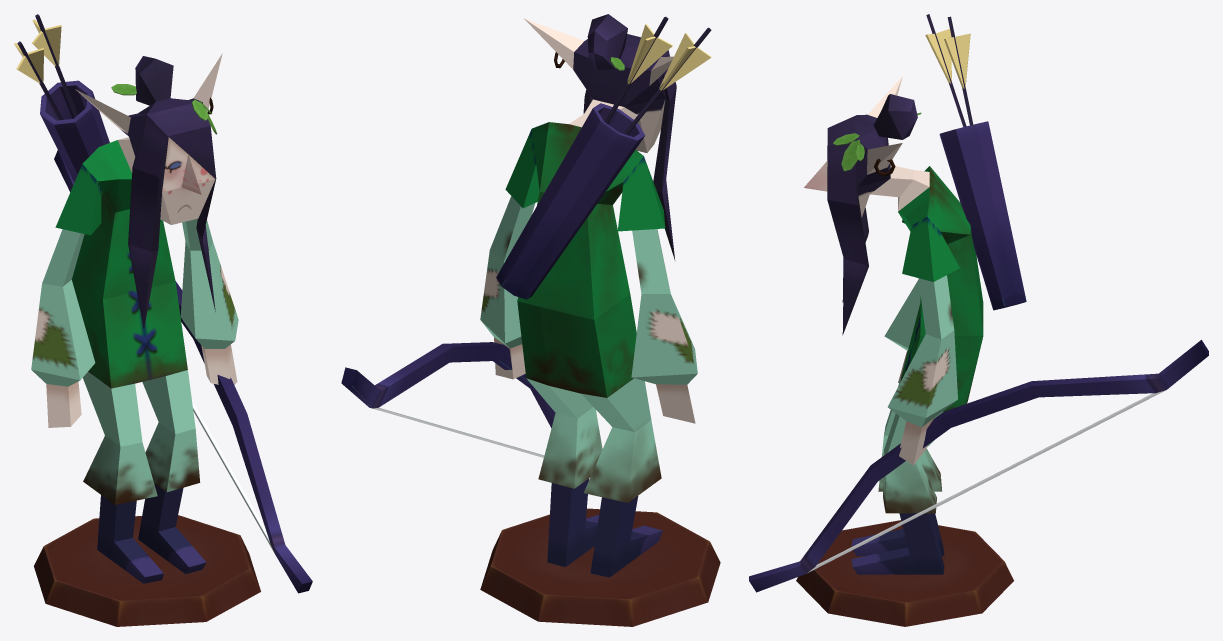
File: Asset_Pawn_Emo.fbx
3 views of the same model, side by side, from view 1: azimuth 30°, elevation 25°; view 2: azimuth 150°, elevation 25°; view 3: azimuth 270°, elevation 25° (orthographic). The views are drawn at different scales.
Visible parts, largest first — view 1: Emo_body, Emo_stand, Emo_Arc, Emo_Garkoi, Emo_fleche, Emo_fleche1, Emo_feuille; view 2: Emo_body, Emo_stand, Emo_Garkoi, Emo_Arc, Emo_fleche1, Emo_fleche; view 3: Emo_body, Emo_stand, Emo_Arc, Emo_Garkoi, Emo_fleche, Emo_fleche1, Emo_feuille.
Boxes of the visible parts, x1=… form: Emo_body: x1=31, y1=53, x2=238, y2=583; Emo_stand: x1=34, y1=515, x2=260, y2=626; Emo_Arc: x1=54, y1=150, x2=312, y2=593; Emo_Garkoi: x1=40, y1=80, x2=109, y2=182; Emo_fleche: x1=32, y1=14, x2=77, y2=117; Emo_fleche1: x1=14, y1=41, x2=63, y2=120; Emo_feuille: x1=111, y1=84, x2=217, y2=134; Emo_body: x1=480, y1=14, x2=697, y2=577; Emo_stand: x1=480, y1=508, x2=720, y2=626; Emo_Garkoi: x1=496, y1=103, x2=645, y2=299; Emo_Arc: x1=341, y1=342, x2=555, y2=457; Emo_fleche1: x1=623, y1=27, x2=711, y2=134; Emo_fleche: x1=604, y1=16, x2=672, y2=124; Emo_body: x1=804, y1=76, x2=983, y2=574; Emo_stand: x1=796, y1=520, x2=1013, y2=626; Emo_Arc: x1=749, y1=340, x2=1208, y2=592; Emo_Garkoi: x1=939, y1=121, x2=1026, y2=310; Emo_fleche: x1=944, y1=16, x2=973, y2=125; Emo_fleche1: x1=925, y1=14, x2=966, y2=126; Emo_feuille: x1=833, y1=112, x2=921, y2=171.
Size of the model in its own units: 28.44 by 69.95 by 55.42.
